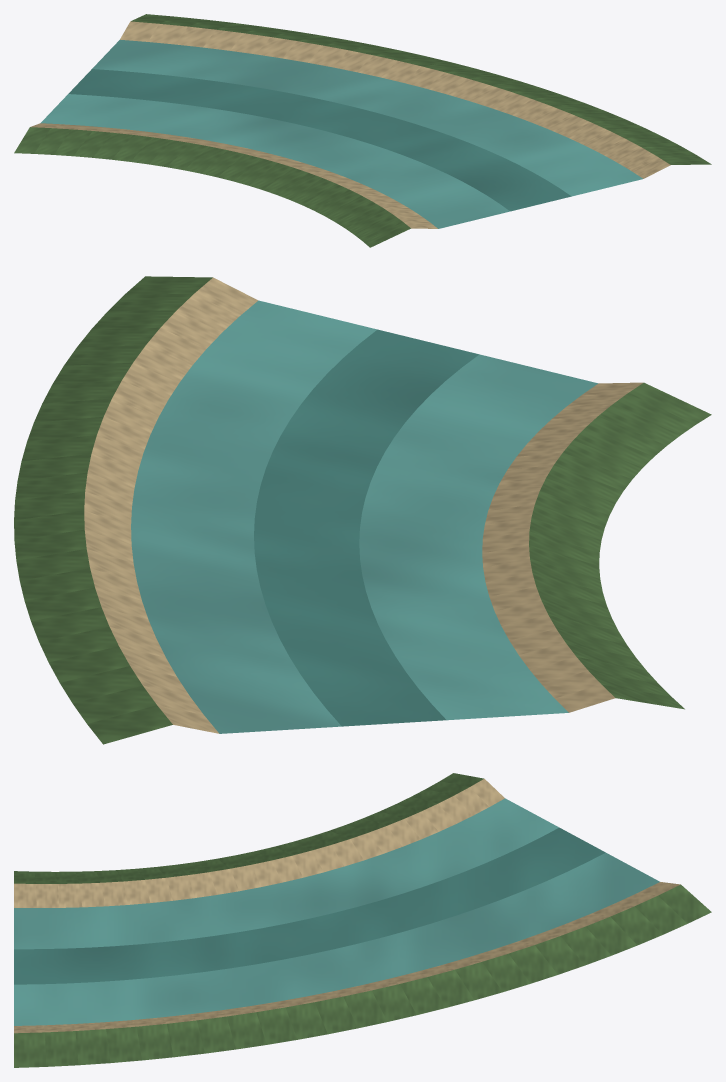
The model's file is river_curve_45.fbx.
3 views of the same model, one above another, from view 1: azimuth 30°, elevation 25°; view 2: azimuth 150°, elevation 25°; view 3: azimuth 270°, elevation 25° (orthographic). The views are drawn at different scales.
Visible parts, largest first — view 1: river_curve_45; view 2: river_curve_45; view 3: river_curve_45.
Part boxes in pixels (bbox=[...]): river_curve_45: bbox=[14, 14, 711, 247]; river_curve_45: bbox=[14, 276, 711, 744]; river_curve_45: bbox=[14, 773, 711, 1067].
Bounding box in the file's own units: 2000 × 35 × 2000.
Materials: 2 (2 with a texture image).
